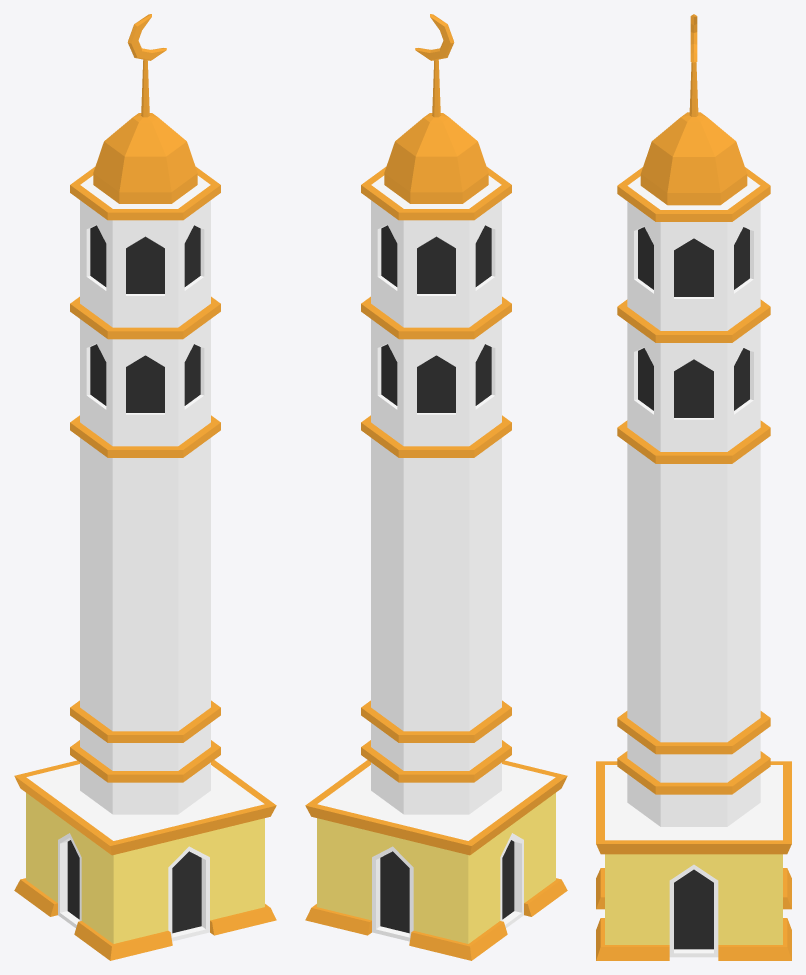
Rendered from mosque-tower.glb.
3 views of the same model, side by side, from view 1: azimuth 30°, elevation 25°; view 2: azimuth 150°, elevation 25°; view 3: azimuth 270°, elevation 25° (orthographic).
Visible parts, largest first — view 1: mosque-tower; view 2: mosque-tower; view 3: mosque-tower.
Part boxes in pixels (<box>): mosque-tower: <box>14,14,276,960</box>; mosque-tower: <box>305,14,567,960</box>; mosque-tower: <box>596,14,791,960</box>.
Size of the model in its own units: 4.4 by 22.48 by 4.4.
1 material, 1 textured.
